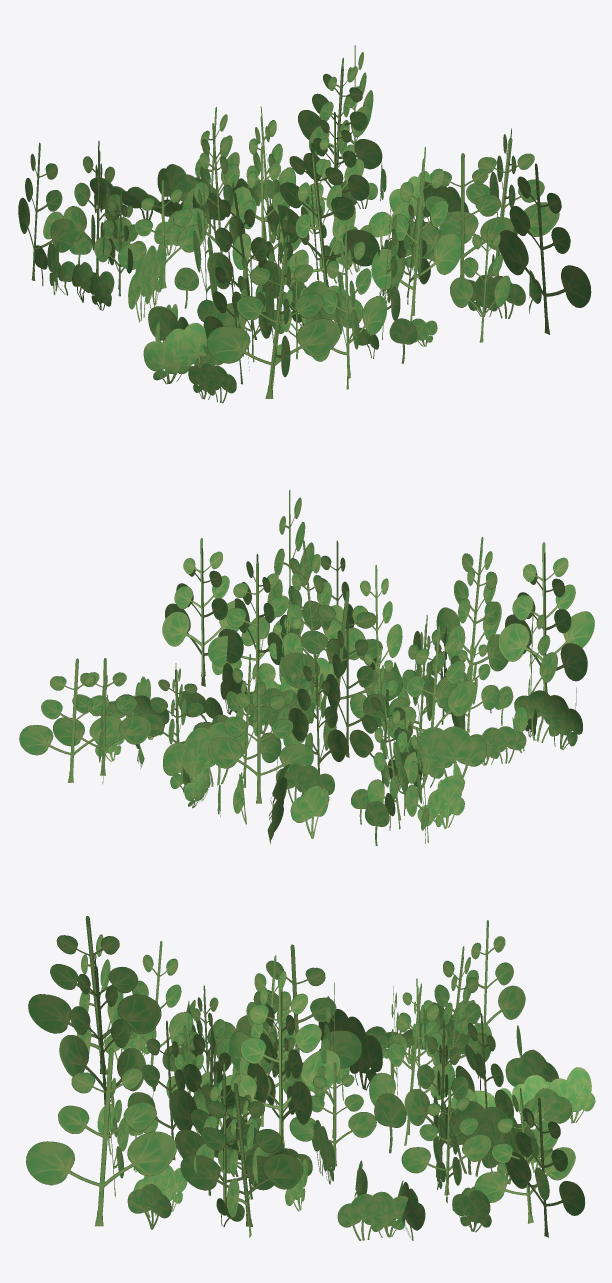
The model's file is LeafSetH_15.fbx.
3 renders of one model, top to bottom at view 1: azimuth 30°, elevation 25°; view 2: azimuth 150°, elevation 25°; view 3: azimuth 270°, elevation 25°, orthographic. The views are drawn at different scales.
Visible parts, largest first — view 1: LeafSetH_15; view 2: LeafSetH_15; view 3: LeafSetH_15.
Part boxes in pixels (left/top/right/bottom): LeafSetH_15: left=18, top=45, right=591, bottom=403; LeafSetH_15: left=19, top=490, right=594, bottom=845; LeafSetH_15: left=26, top=916, right=595, bottom=1240.
Size of the model in its own units: 2.38 by 0.9752 by 2.59.
